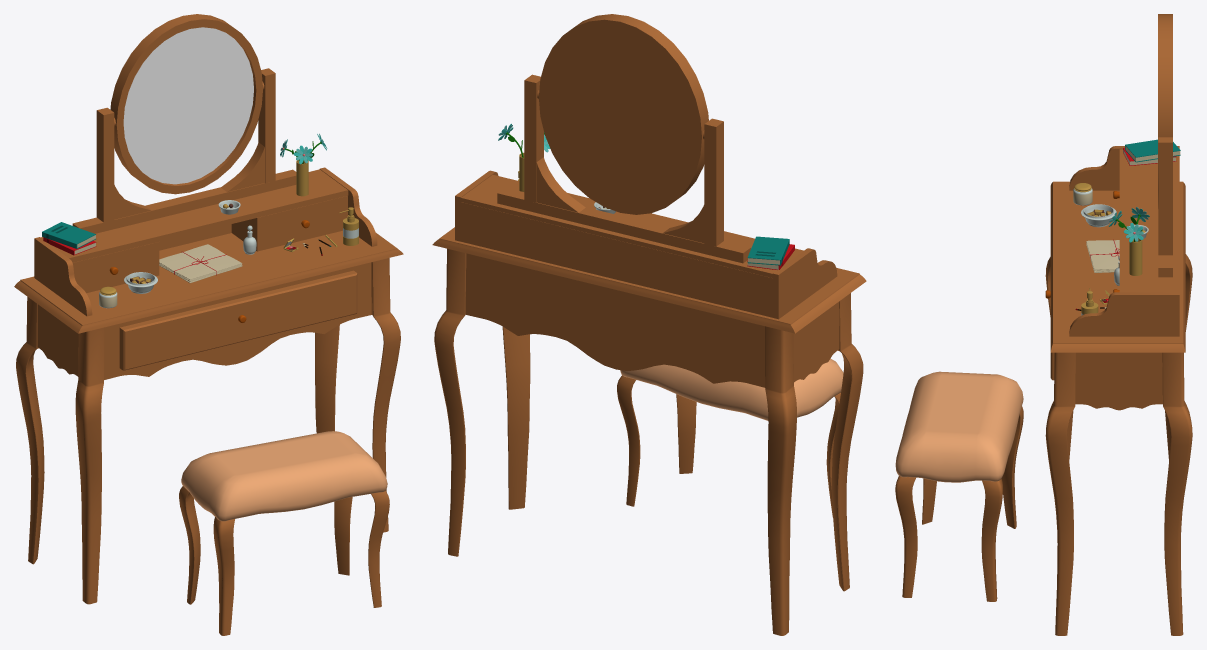
File: modelFile-1765365306699-618635913.glb
The picture shows the model from 3 angles, left to right: view 1: azimuth 30°, elevation 25°; view 2: azimuth 150°, elevation 25°; view 3: azimuth 270°, elevation 25°; orthographic projection. The views are drawn at different scales.
Parts seen in each view (by area): view 1: Mirror, Cube.013, Chair, Table, Box_big, Cube.004, Cube.006, Cube.015, Cube.010, Cube.008, Cube.005, Cube.007 (+5 smaller); view 2: Mirror, Cube.013, Cube.014, Cube.002, Table, Chair, Cube.008, Cube.004, Cube.007, Cube.015, Cube.005, Cube.012 (+2 smaller); view 3: Chair, Cube.013, Table, Cube.004, Cube.005, Cube.015, Cube.012, Mirror, Cube.008, Paper, Books, Bowl_candy (+1 smaller).
Part boxes in pixels (x1,y1,x2,y2): Mirror: (110, 14, 262, 194); Cube.013: (16, 258, 400, 604); Chair: (181, 431, 387, 521); Table: (14, 230, 403, 333); Box_big: (119, 270, 357, 370); Cube.004: (40, 169, 348, 262); Cube.006: (72, 196, 347, 293); Cube.015: (179, 486, 389, 635); Cube.010: (104, 262, 371, 379); Cube.008: (96, 68, 275, 222); Cube.005: (34, 167, 377, 316); Cube.007: (72, 169, 296, 233); Mirror: (538, 14, 708, 214); Cube.013: (434, 248, 863, 635); Cube.014: (465, 253, 765, 387); Cube.002: (461, 202, 772, 317); Table: (432, 227, 866, 333); Chair: (620, 358, 843, 420); Cube.008: (524, 74, 723, 246); Cube.004: (461, 174, 803, 277); Cube.007: (497, 187, 750, 263); Cube.015: (617, 375, 840, 516); Cube.005: (455, 170, 837, 319); Cube.012: (793, 302, 839, 382); Chair: (895, 371, 1023, 482); Cube.013: (1045, 254, 1192, 635); Table: (1050, 181, 1185, 352); Cube.004: (1119, 149, 1179, 292); Cube.005: (1069, 146, 1179, 336); Cube.015: (895, 406, 1023, 601); Cube.012: (1075, 352, 1162, 410); Mirror: (1158, 14, 1172, 208); Cube.008: (1158, 137, 1172, 255); Paper: (1086, 240, 1119, 272); Books: (1125, 139, 1180, 162); Bowl_candy: (1081, 204, 1116, 227).
Size of the model in its own units: 1.01 by 1.52 by 0.76.
